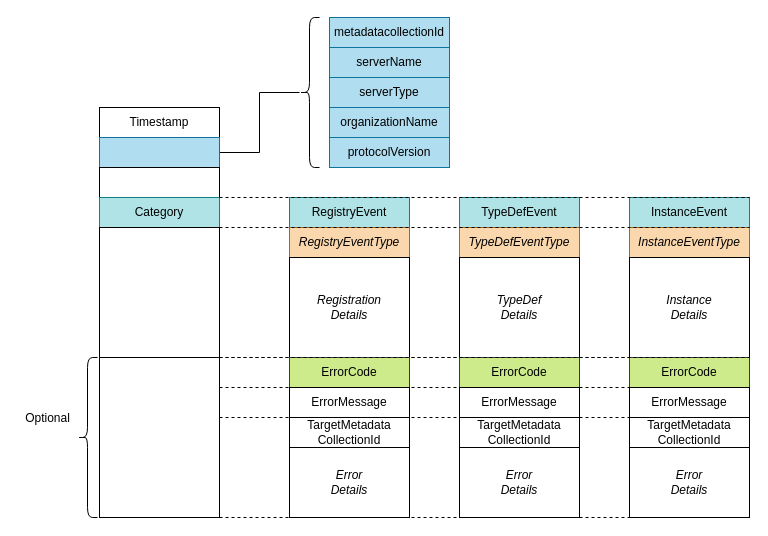
Image size: 768x536. Some labels were removed from this diagram. Each missing label, with the centre of its shape:
Category Specific Section: pixel 159 292
Error Section: pixel 159 437
Originator: pixel 159 152
Version: pixel 159 182
